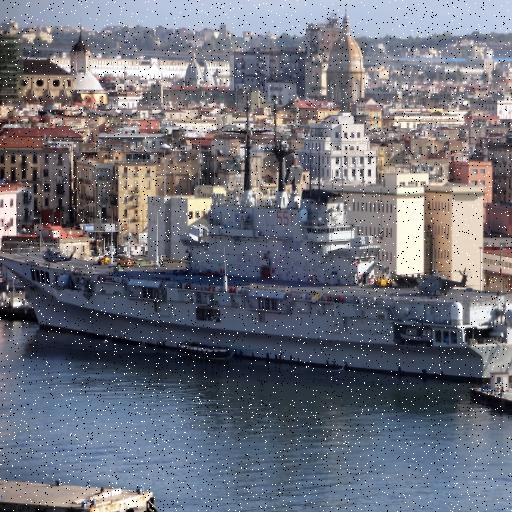Portanaves: (1, 106, 512, 388)
